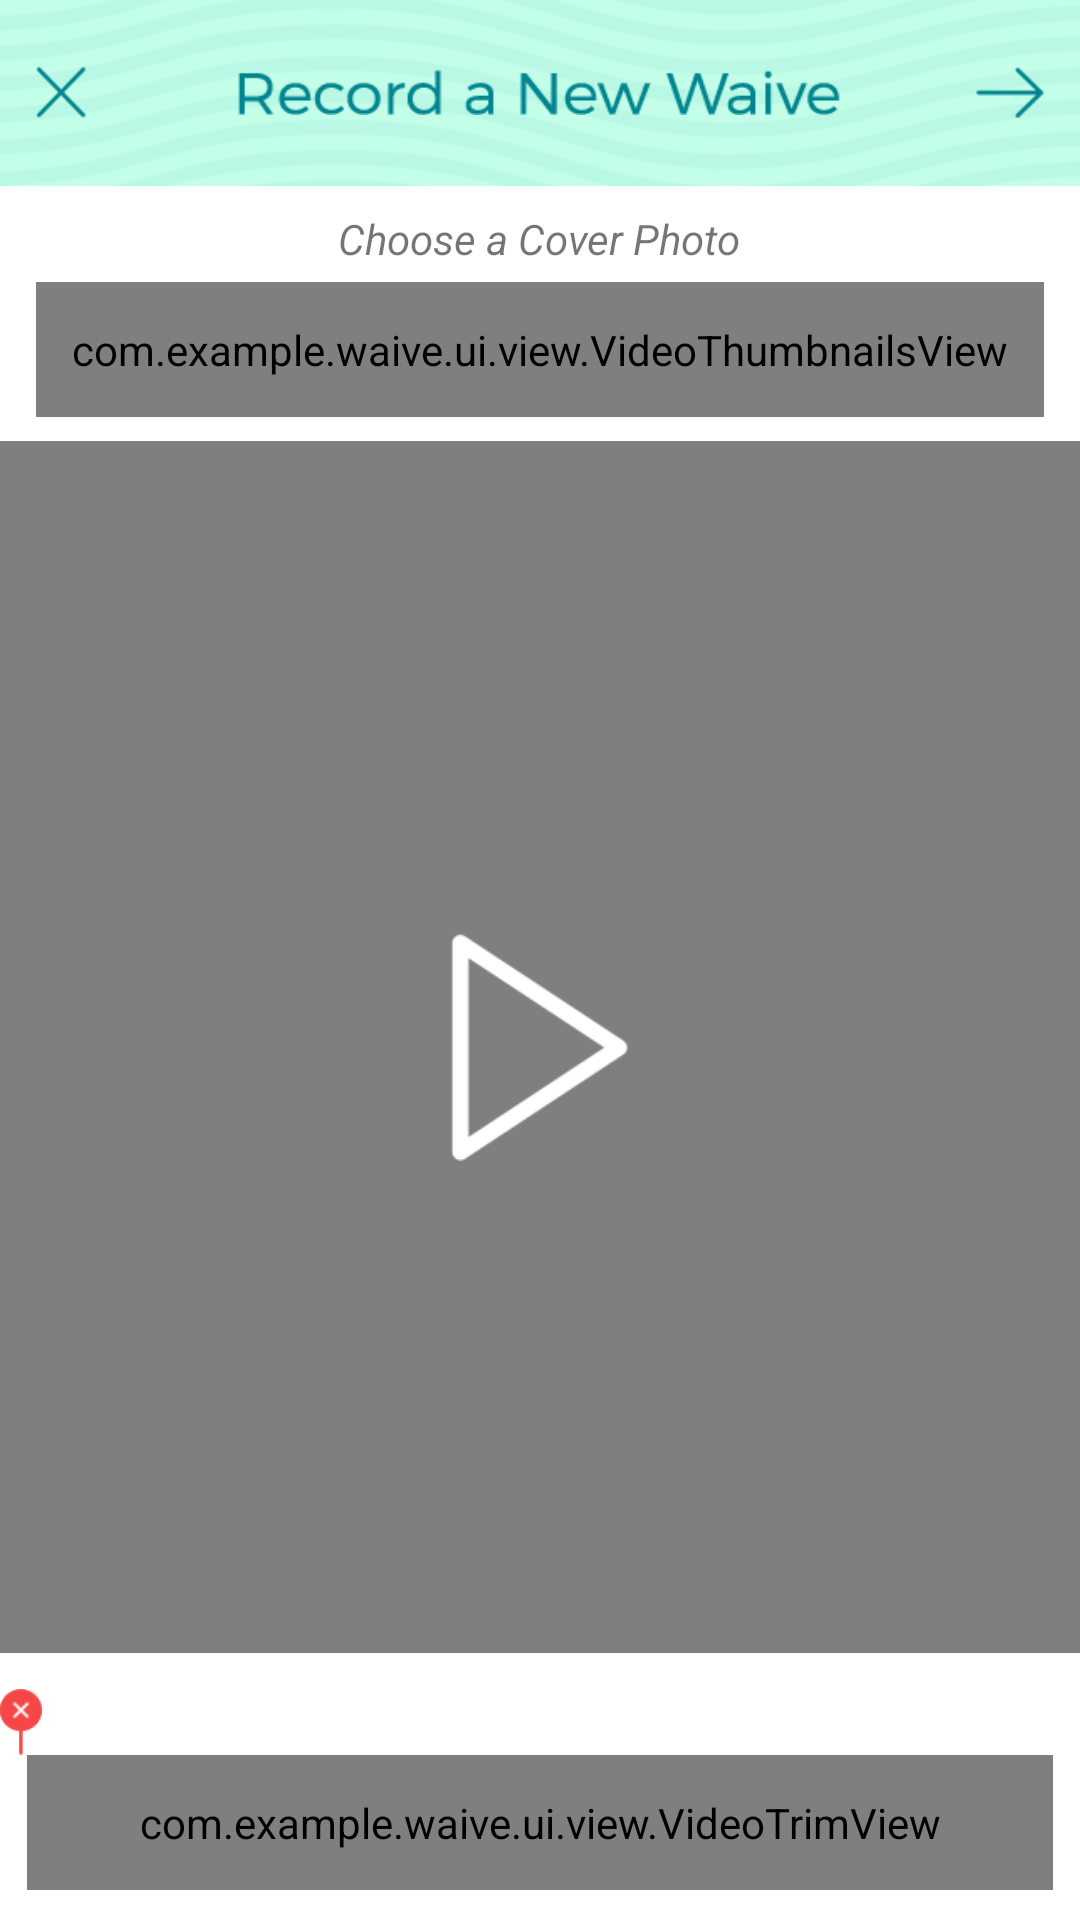

Named icons in this screenshot (1080px x 1920px) and their bounding boxes, (x1, y1, x2, y2):
close: (36, 67, 86, 118)
play: (452, 934, 628, 1161)
rgt arrow: (976, 67, 1044, 118)
